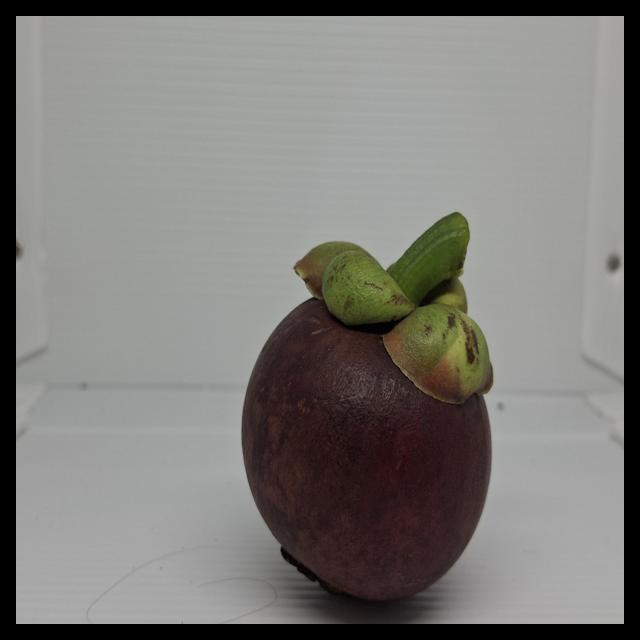mangosteen: (229, 170, 520, 606)
